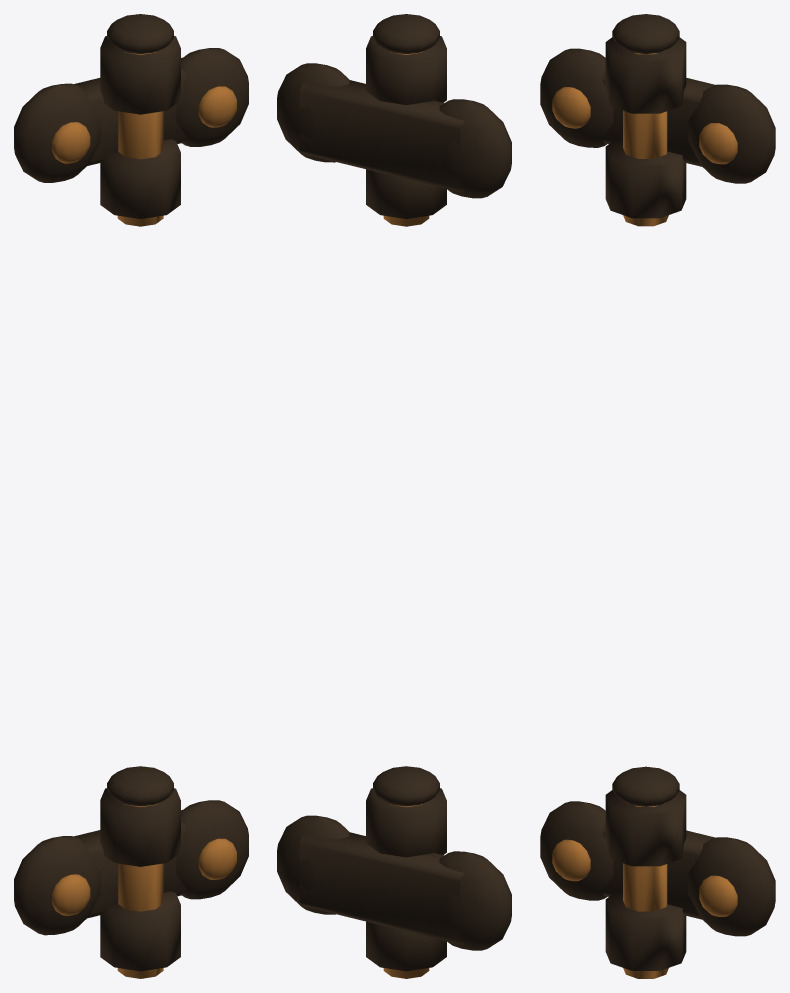
File: snowbound_hinges.obj
3 views of the same model, side by side, from view 1: azimuth 30°, elevation 25°; view 2: azimuth 150°, elevation 25°; view 3: azimuth 330°, elevation 25° (orthographic).
Visible parts, largest first — view 1: snowbound_hinges; view 2: snowbound_hinges; view 3: snowbound_hinges.
Boxes of the visible parts, x1,y1,x2,y2 form: snowbound_hinges: [14, 14, 248, 978]; snowbound_hinges: [277, 14, 511, 978]; snowbound_hinges: [540, 14, 775, 978].
Bounding box in the file's own units: 0.2427 × 0.945 × 0.0798.
